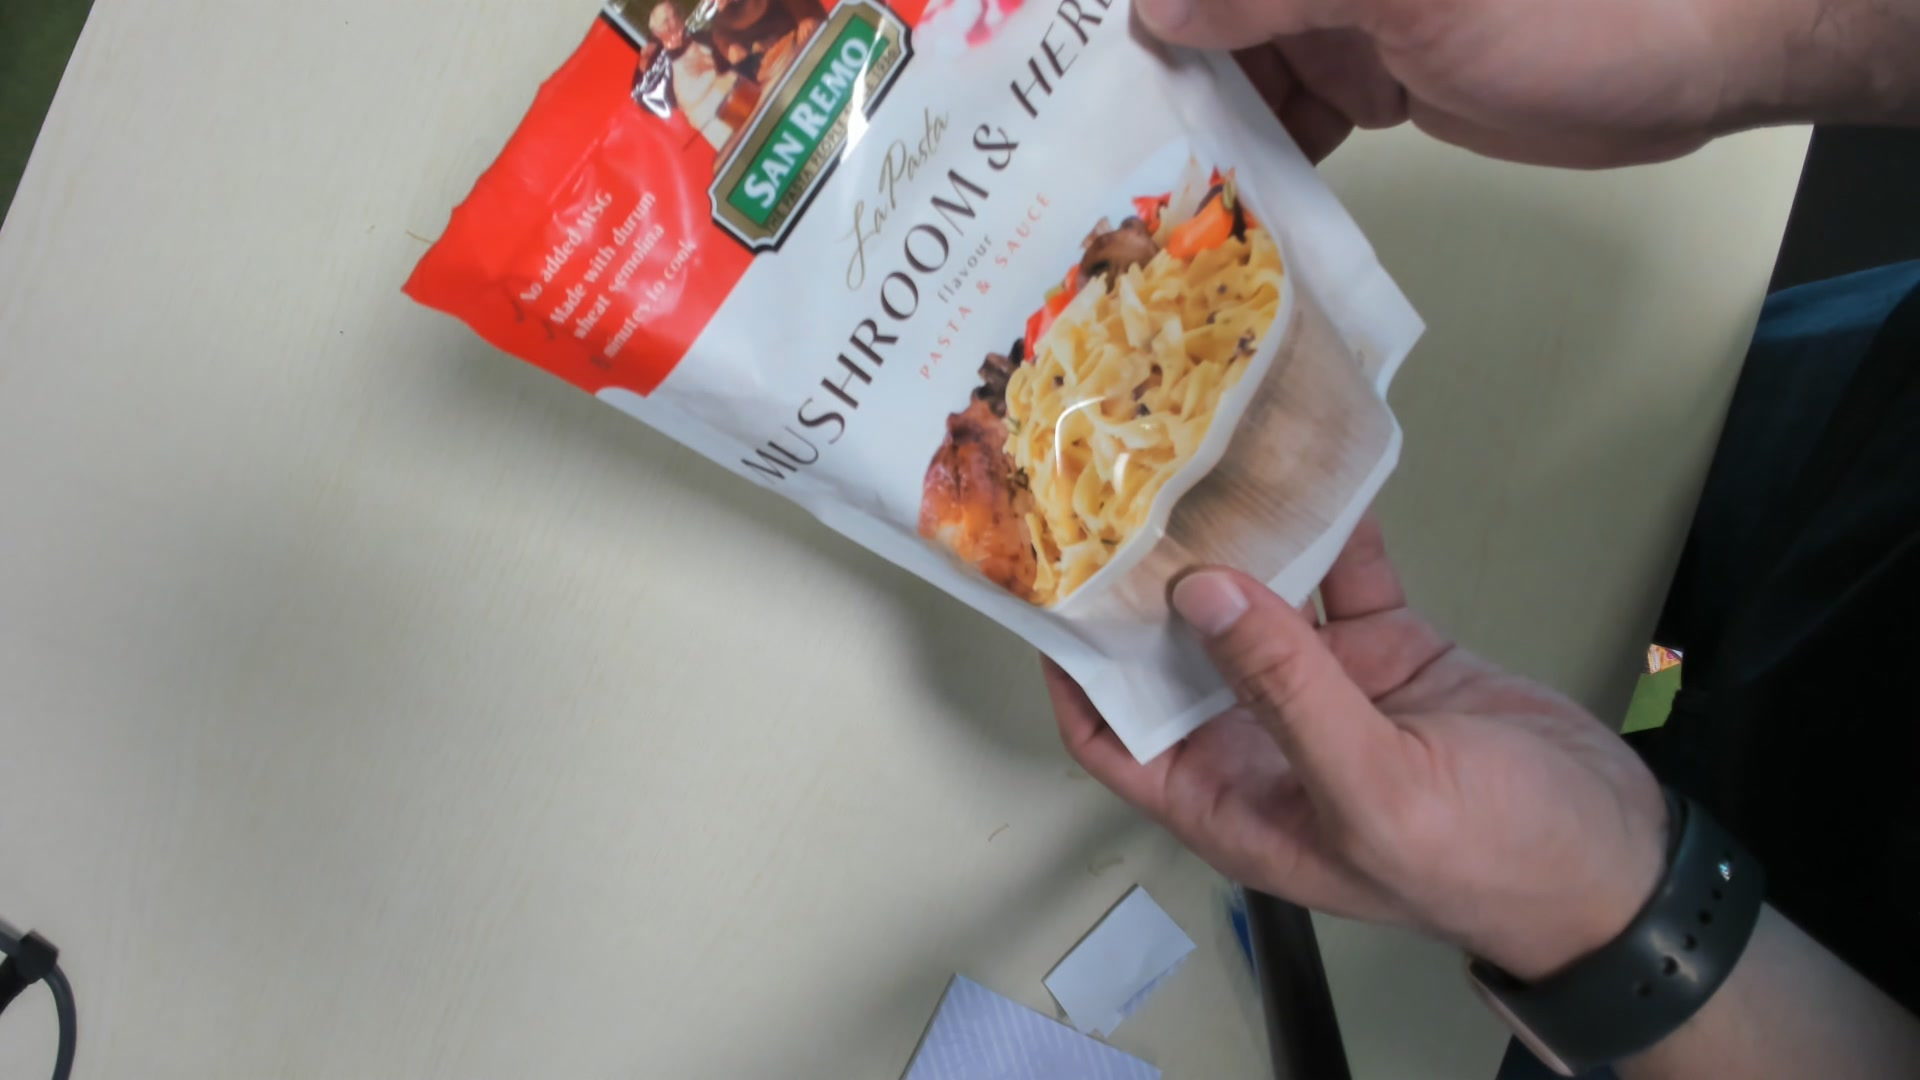InstantMeals_100-199g_NonHalal_Healthy: (406, 5, 1428, 756)
